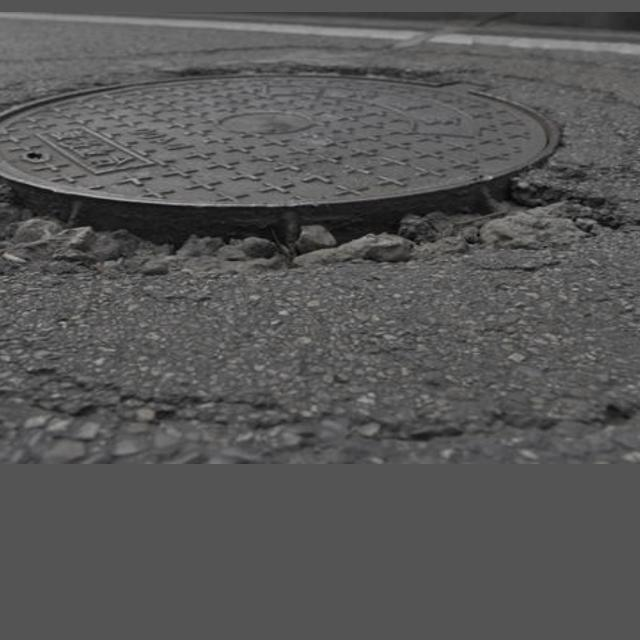circle: (0, 53, 640, 290)
